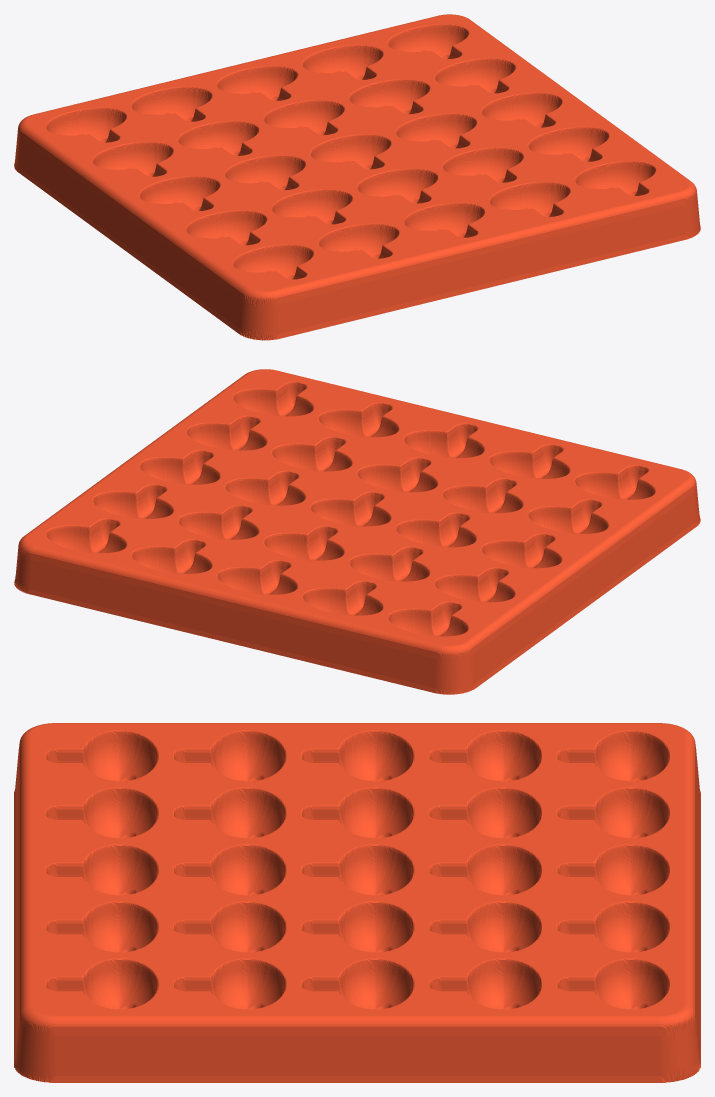
Rendered from mold.glb.
The picture shows the model from 3 angles, top to bottom: view 1: azimuth 30°, elevation 25°; view 2: azimuth 150°, elevation 25°; view 3: azimuth 270°, elevation 25°; orthographic projection. The views are drawn at different scales.
Parts seen in each view (by area): view 1: geometry_0; view 2: geometry_0; view 3: geometry_0.
Part boxes in pixels (x1,y1,x2,y2): geometry_0: (14,14,700,340); geometry_0: (14,369,700,694); geometry_0: (14,723,700,1082).
Bounding box in the file's own units: 0.1571 × 0.0145 × 0.1493.
